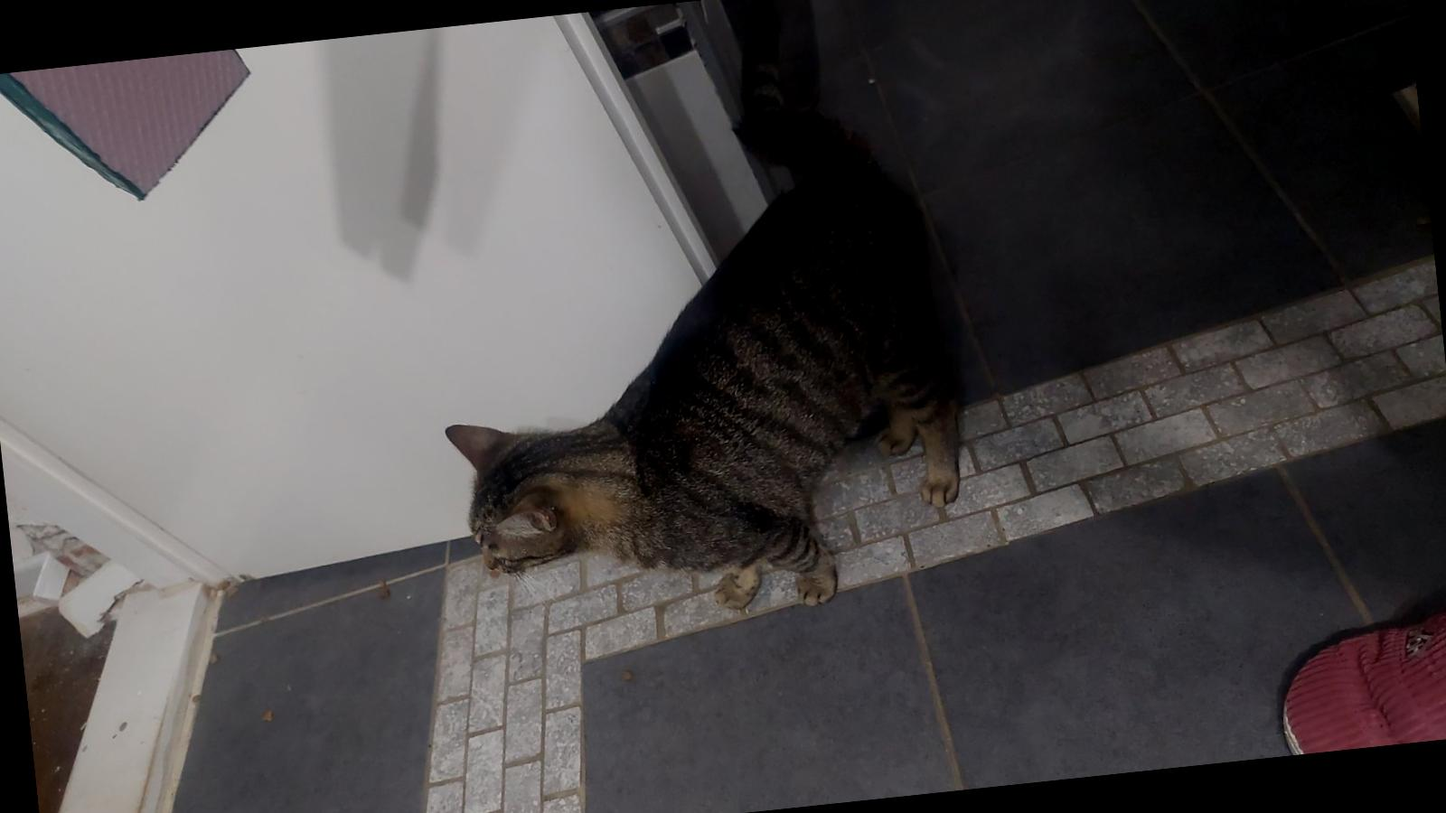macka: (401, 0, 975, 646)
